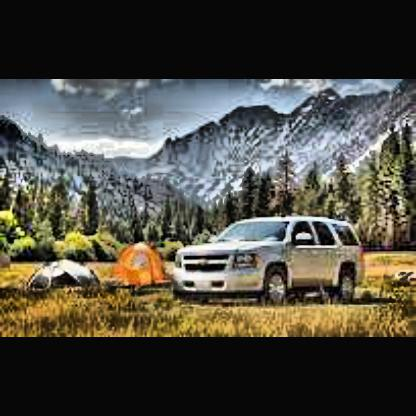Chevrolet Tahoe Hybrid SUV 2012: (171, 216, 370, 311)
